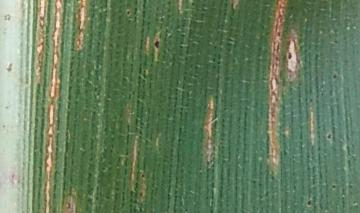tarspot: (152, 37, 163, 52), (328, 180, 340, 193), (325, 130, 335, 145), (330, 70, 339, 81), (286, 50, 293, 62), (306, 197, 312, 211)
